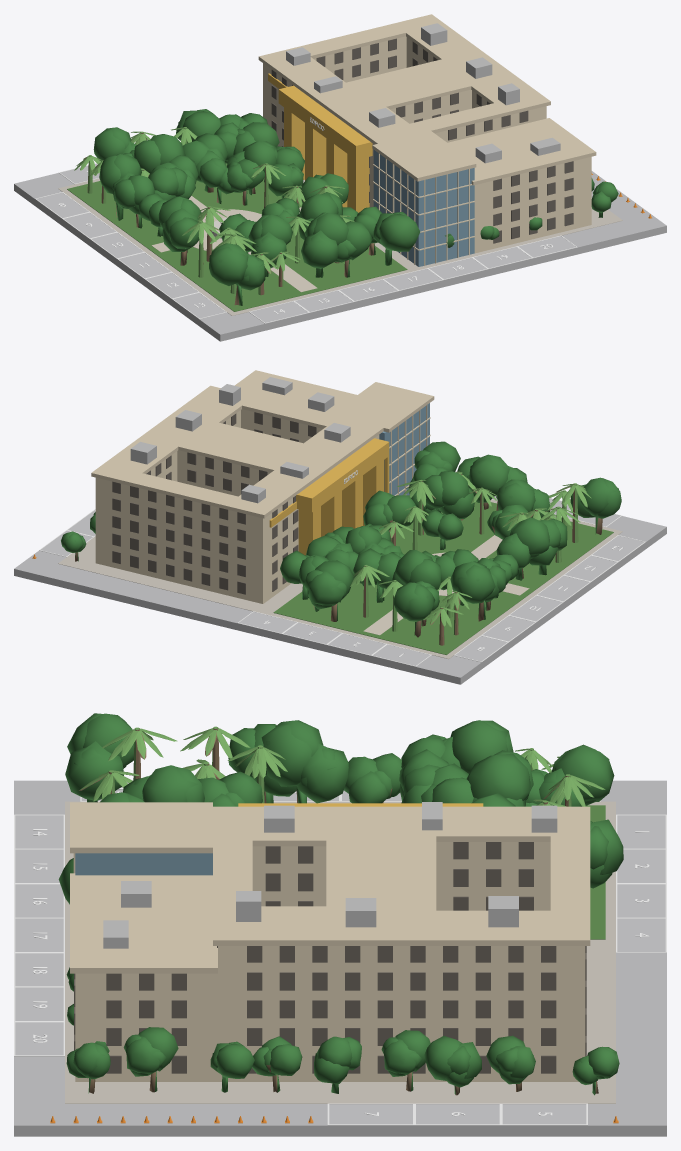
The model's file is palacio-justicia.glb.
3 views of the same model, one above another, from view 1: azimuth 30°, elevation 25°; view 2: azimuth 150°, elevation 25°; view 3: azimuth 270°, elevation 25° (orthographic). The views are drawn at different scales.
Parts seen in each view (by area): view 1: Edificio_Techos, Edificio_Muros, Losa_Base, Cesped, Edificio_Vidrio, Edificio_Portico_Ocre, Edificio_Ventanas, Edificio_Equipos, Plaza_Acera, Arbol.028, Arbol.002, Arbol.015 (+42 smaller); view 2: Edificio_Techos, Edificio_Muros, Losa_Base, Cesped, Edificio_Ventanas, Edificio_Portico_Ocre, Plaza_Acera, Edificio_Equipos, Edificio_Vidrio, Arbol.007, Arbol.001, Arbol.012 (+29 smaller); view 3: Edificio_Techos, Edificio_Muros, Losa_Base, Edificio_Ventanas, Plaza_Acera, Edificio_Equipos, Arbol.001, Arbol.028, Edificio_Vidrio, Arbol.013, Arbol.010, Arbol.023 (+38 smaller).
Boxes of the visible parts, x1,y1,x2,y2 form: Edificio_Techos: (258,14,596,185); Edificio_Muros: (263,36,591,265); Losa_Base: (14,171,666,341); Cesped: (67,163,407,311); Edificio_Vidrio: (373,150,474,266); Edificio_Portico_Ocre: (268,73,372,212); Edificio_Ventanas: (271,38,573,243); Edificio_Equipos: (286,23,560,163); Plaza_Acera: (58,178,622,315); Arbol.028: (209,243,265,305); Arbol.002: (301,212,348,277); Arbol.015: (373,212,420,265); Edificio_Techos: (91,370,434,518); Edificio_Muros: (95,405,430,603); Losa_Base: (14,516,666,684); Cesped: (273,501,613,654); Edificio_Ventanas: (112,412,316,594); Edificio_Portico_Ocre: (269,438,389,555); Plaza_Acera: (58,499,622,658); Edificio_Equipos: (130,377,350,503); Edificio_Vidrio: (379,403,429,495); Arbol.007: (304,560,354,621); Arbol.001: (496,517,549,580); Arbol.012: (423,471,474,518); Edificio_Techos: (70,802,590,973); Edificio_Muros: (73,842,585,1081); Losa_Base: (14,780,666,1136); Edificio_Ventanas: (74,842,586,1073); Plaza_Acera: (65,801,615,1103); Edificio_Equipos: (103,802,557,948); Arbol.001: (261,720,348,803); Arbol.028: (65,713,134,802); Edificio_Vidrio: (75,853,212,875); Arbol.013: (466,750,533,806); Arbol.010: (539,744,614,806); Arbol.023: (344,753,401,803).
Size of the model in its own units: 80 by 19 by 64.
